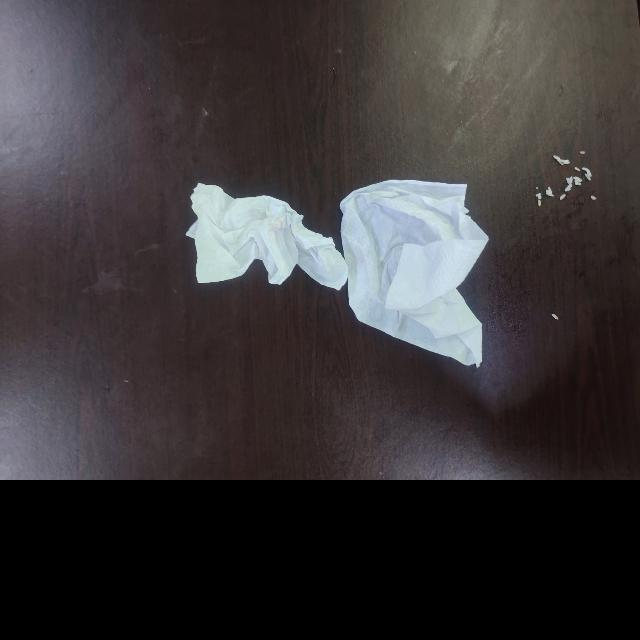kitchen paper: (338, 175, 492, 373), (181, 180, 351, 295)
